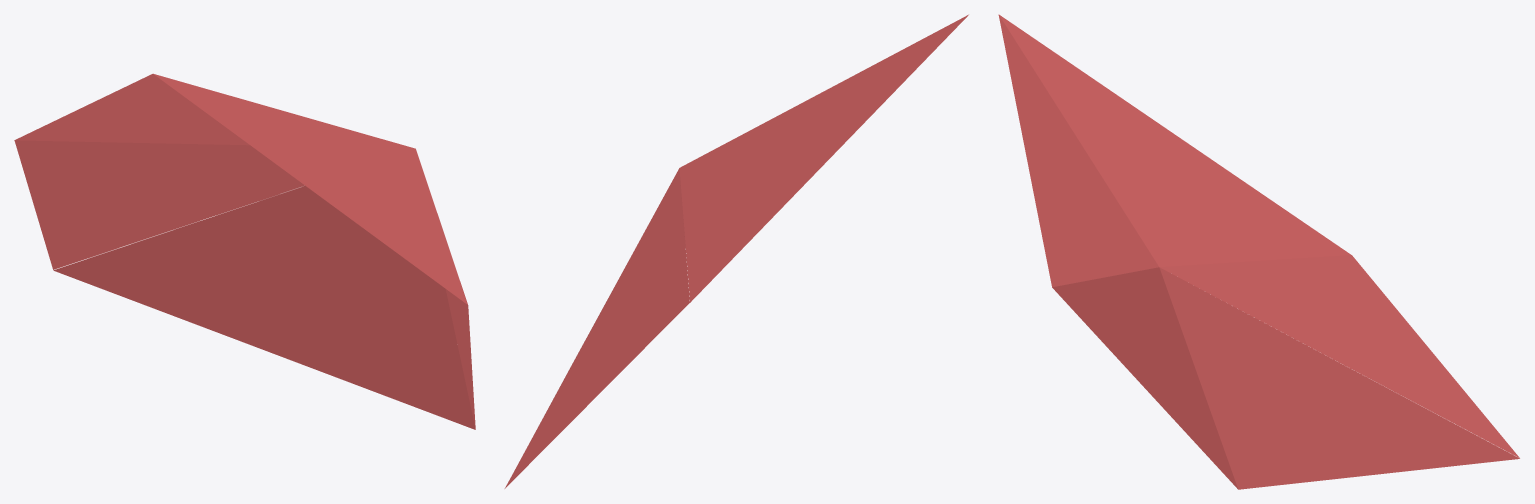
The model's file is dossy_leg_l.glb.
3 renders of one model, left to right at view 1: azimuth 30°, elevation 25°; view 2: azimuth 150°, elevation 25°; view 3: azimuth 270°, elevation 25°, orthographic. The views are drawn at different scales.
Visible parts, largest first — view 1: dossy_leg_l_col; view 2: dossy_leg_l_col; view 3: dossy_leg_l_col.
Boxes of the visible parts, x1,y1,x2,y2 form: dossy_leg_l_col: (14, 73, 475, 429); dossy_leg_l_col: (504, 14, 968, 488); dossy_leg_l_col: (998, 14, 1519, 489).
Bounding box in the file's own units: 0.2254 × 0.2599 × 0.3594.
